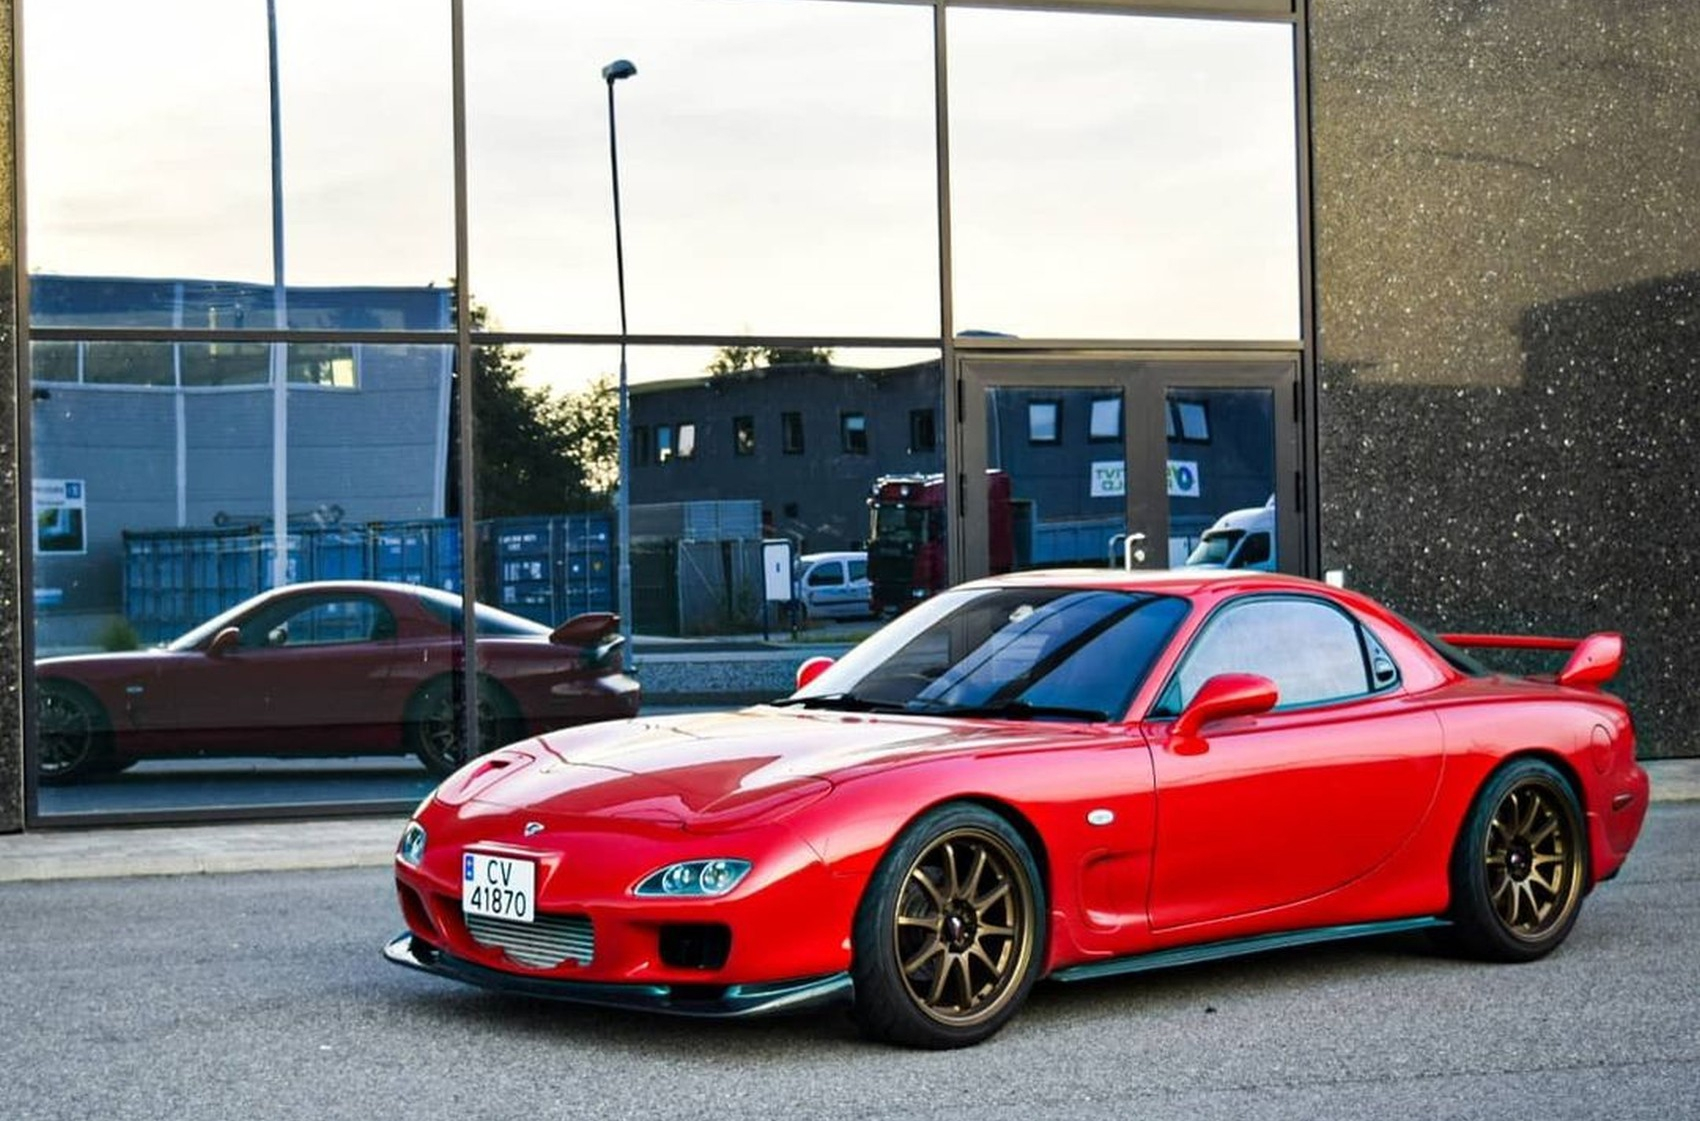plate: (460, 850, 536, 926)
